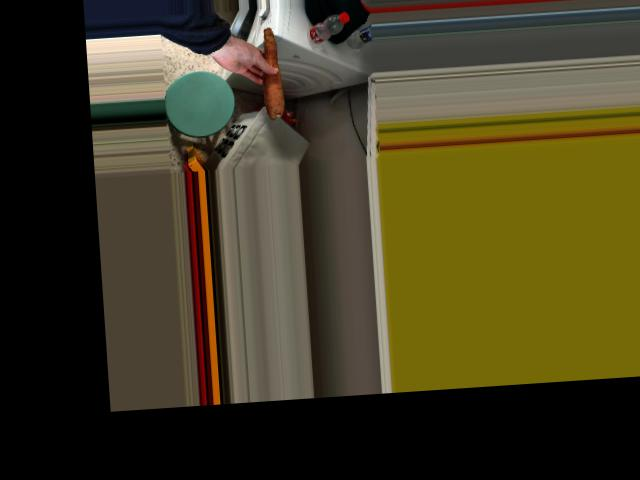sweet_potato: (251, 25, 286, 118)
